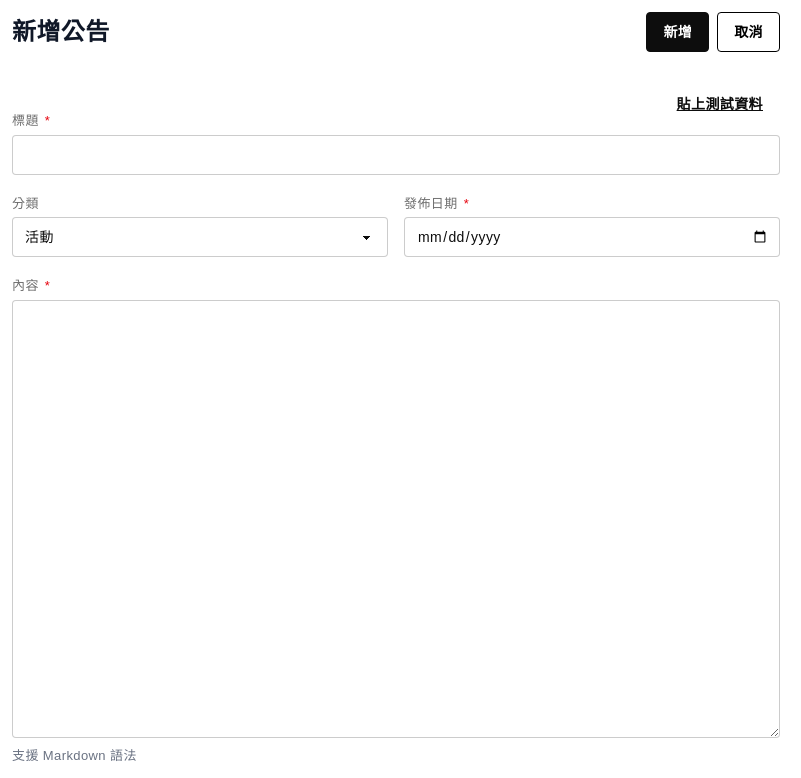
Test case: NewsForm 元件 › 點擊貼上測試資料後會填入預設內容
This screenshot has width=801, height=778.
Click the button "貼上測試資料" at (720, 104), box x1=660 y1=84 x2=780 y2=124
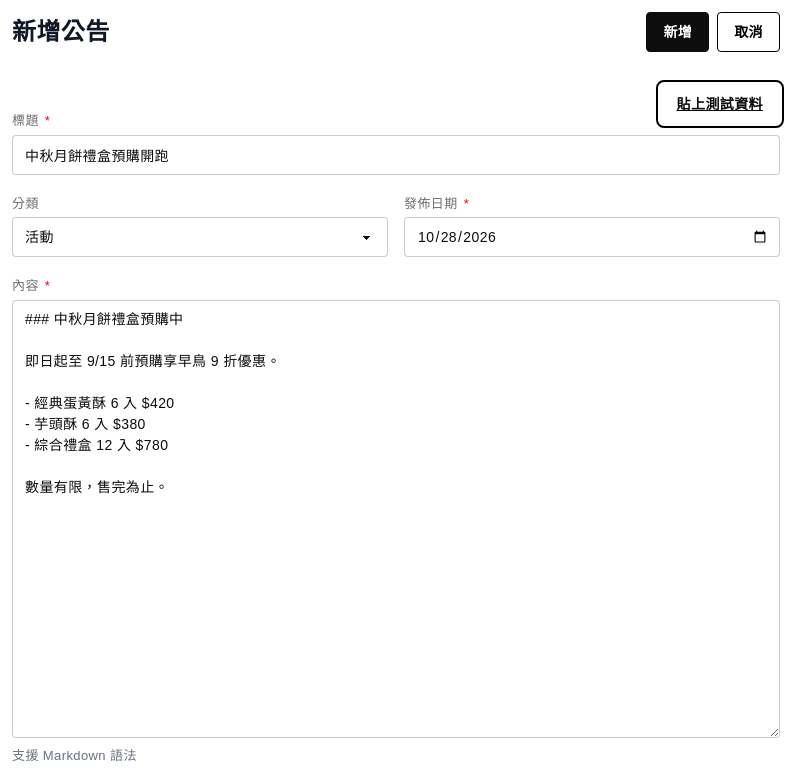
Expected: the field labelled "標題 *" holds "中秋月餅禮盒預購開跑", x1=12 y1=134 x2=780 y2=174
